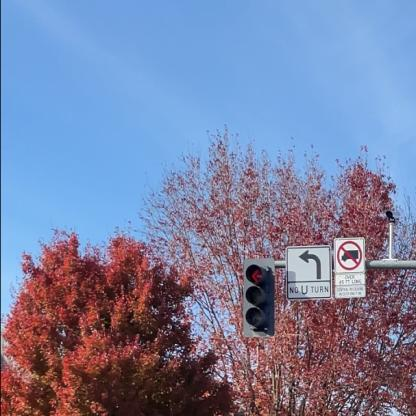left-red: (239, 253, 279, 342)
